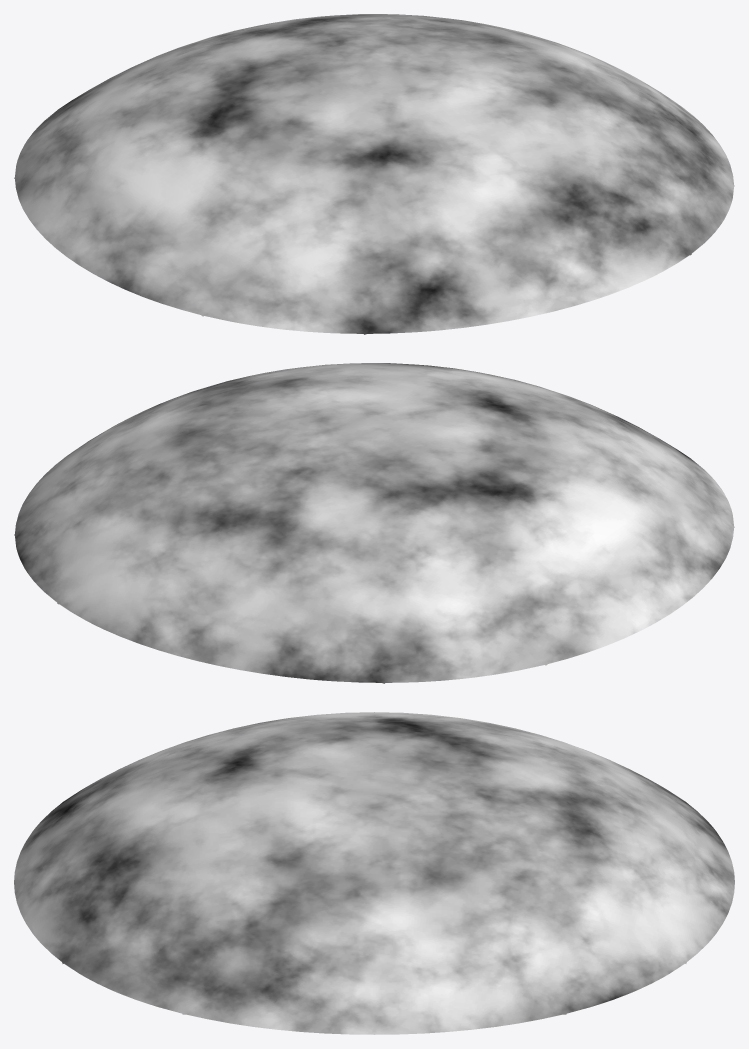
The picture shows the model from 3 angles, top to bottom: view 1: azimuth 30°, elevation 25°; view 2: azimuth 150°, elevation 25°; view 3: azimuth 270°, elevation 25°; orthographic projection.
Visible parts, largest first — view 1: High_21; view 2: High_21; view 3: High_21.
Boxes of the visible parts, bbox=[...] form: High_21: bbox=[14, 14, 734, 334]; High_21: bbox=[14, 363, 734, 683]; High_21: bbox=[14, 712, 734, 1034].
Bounding box in the file's own units: 14.74 × 2.33 × 14.74.
36 materials, 32 textured.
